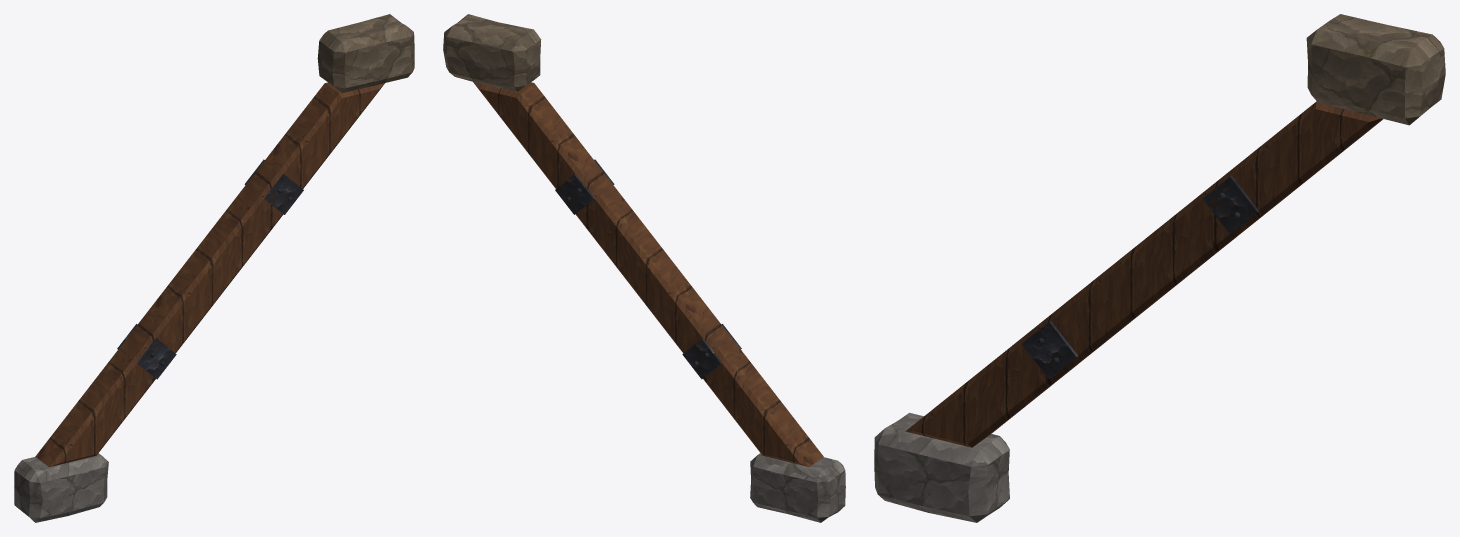
File: brace__cut_stone.glb
The picture shows the model from 3 angles, left to right: view 1: azimuth 30°, elevation 25°; view 2: azimuth 150°, elevation 25°; view 3: azimuth 330°, elevation 25°; orthographic projection. The views are drawn at different scales.
Parts seen in each view (by area): view 1: model; view 2: model; view 3: model.
Boxes of the visible parts, <box> form: model: <box>14,14,414,522</box>; model: <box>443,14,845,522</box>; model: <box>874,14,1445,522</box>.
Bounding box in the file's own units: 1.98 × 1.98 × 0.227.
Materials: 4 (4 with a texture image).
